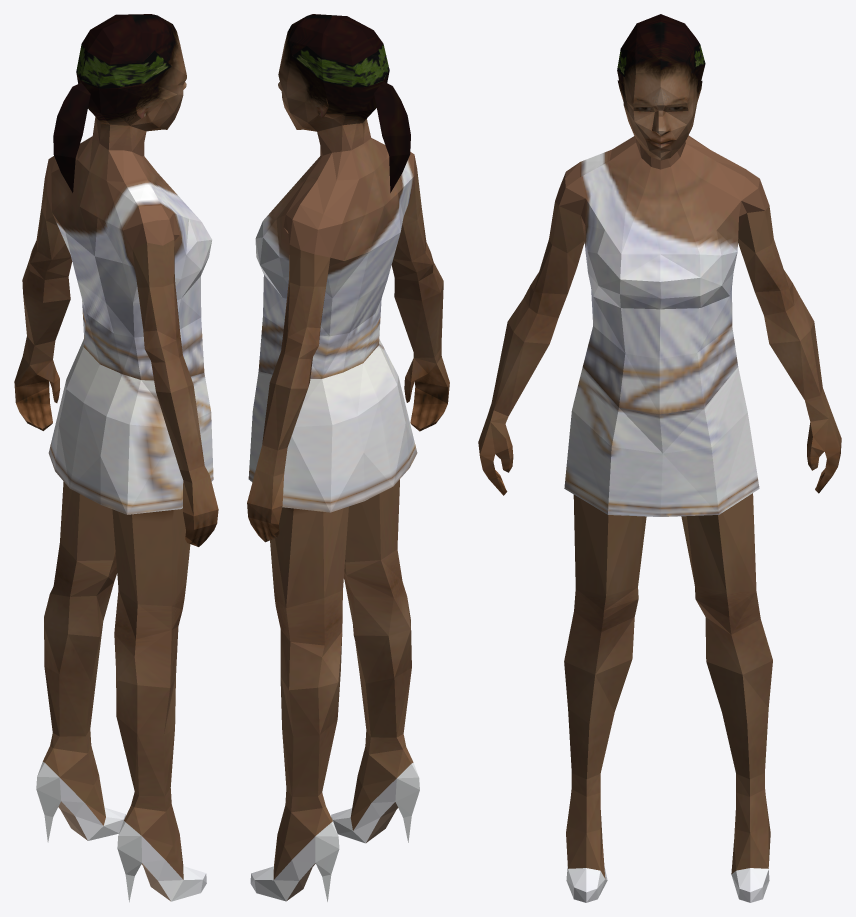
Rendered from vwfywai.obj.
The picture shows the model from 3 angles, left to right: view 1: azimuth 30°, elevation 25°; view 2: azimuth 150°, elevation 25°; view 3: azimuth 270°, elevation 25°; orthographic projection. The views are drawn at different scales.
Parts seen in each view (by area): view 1: _Pelvis; view 2: _Pelvis; view 3: _Pelvis.
Part boxes in pixels (x1,y1,x2,y2): _Pelvis: [14, 14, 218, 902]; _Pelvis: [247, 14, 449, 901]; _Pelvis: [478, 14, 841, 902].
Bounding box in the file's own units: 0.316 × 1.8 × 0.6856.
1 material, 1 textured.
